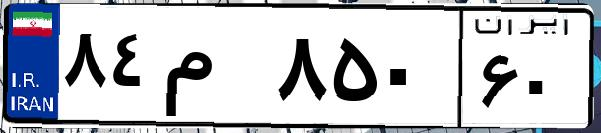0: (385, 28, 445, 110), (525, 38, 570, 115)
4: (110, 28, 158, 98)
5: (330, 28, 385, 110)
6: (475, 38, 525, 113)
8: (270, 28, 330, 110), (57, 26, 110, 100)
م: (158, 20, 270, 120)
